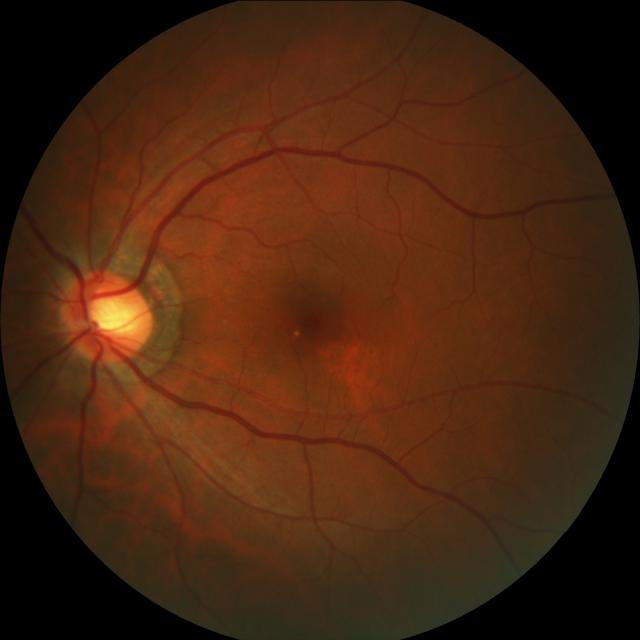OC: (84, 288, 136, 343)
OD: (60, 268, 151, 364)
